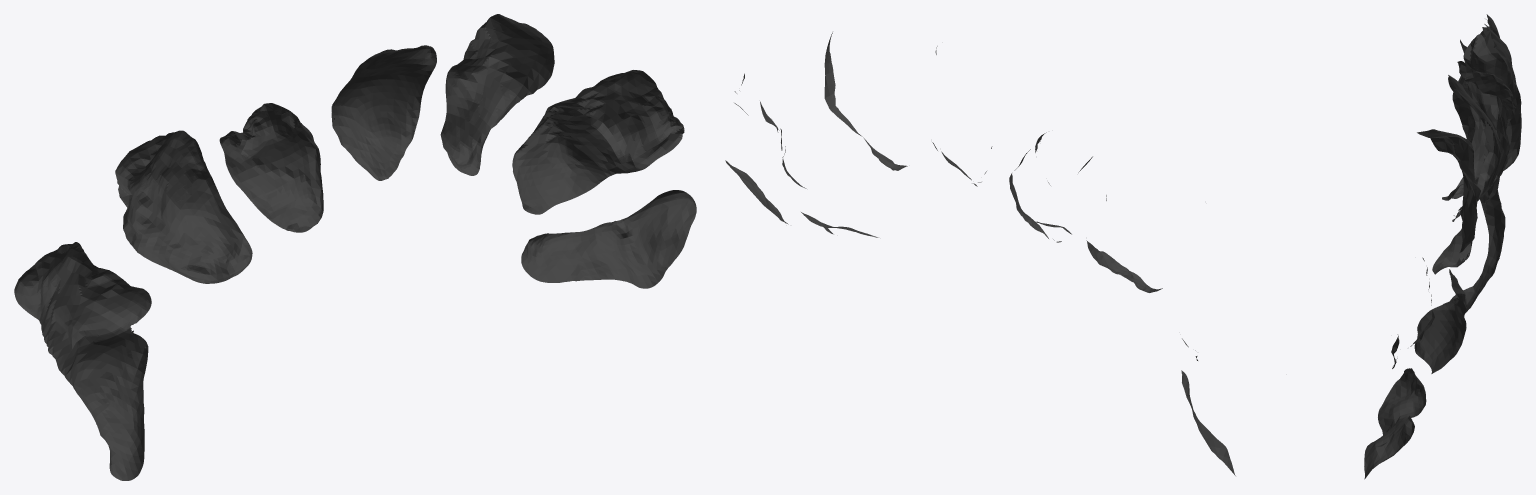
Rendered from canine_kidney_medulla.glb.
3 renders of one model, left to right at view 1: azimuth 30°, elevation 25°; view 2: azimuth 150°, elevation 25°; view 3: azimuth 270°, elevation 25°, orthographic. The views are drawn at different scales.
Visible parts, largest first — view 1: canine_kidney_medulla; view 2: canine_kidney_medulla; view 3: canine_kidney_medulla.
Boxes of the visible parts, x1,y1,x2,y2 form: canine_kidney_medulla: (14,14,696,480); canine_kidney_medulla: (725,32,1235,475); canine_kidney_medulla: (1364,14,1521,479).
Size of the model in its own units: 0.4502 by 0.2492 by 0.091.
1 material, 1 textured.
